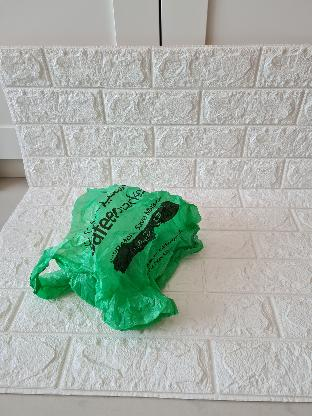Plastic Bag: (29, 180, 202, 330)
